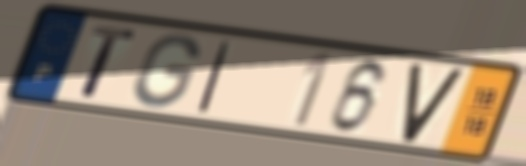1: (290, 50, 336, 131)
6: (329, 57, 389, 135)
G: (131, 31, 203, 111)
I: (193, 38, 235, 116)
T: (78, 22, 140, 101)
V: (399, 62, 469, 146)
